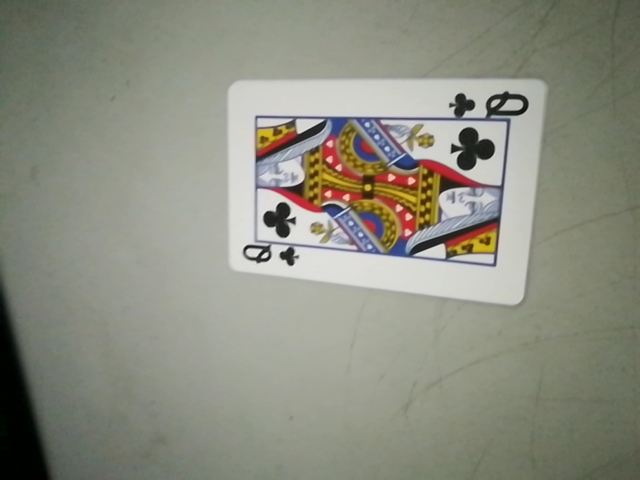mh q: (450, 88, 531, 122), (234, 239, 302, 273)
